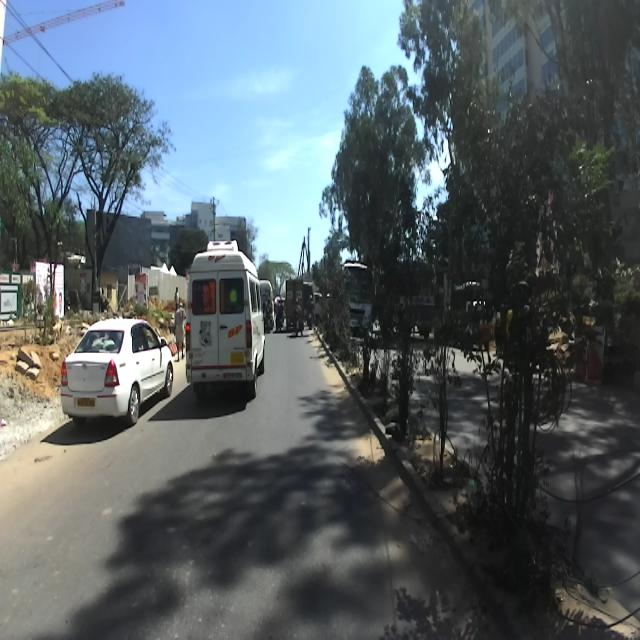bus ahead at: (185, 239, 267, 409)
car ahead at: (60, 310, 174, 441)
truck ahead at: (333, 54, 455, 461)
